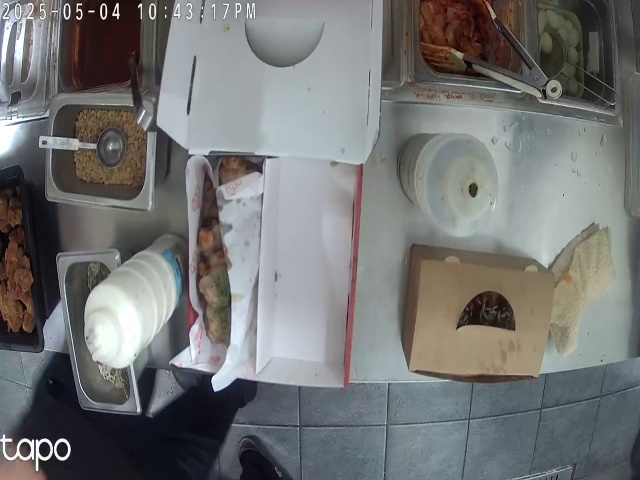closed delivery box: (405, 241, 549, 383)
delivery box: (177, 0, 380, 384)
food: (196, 154, 263, 377)
